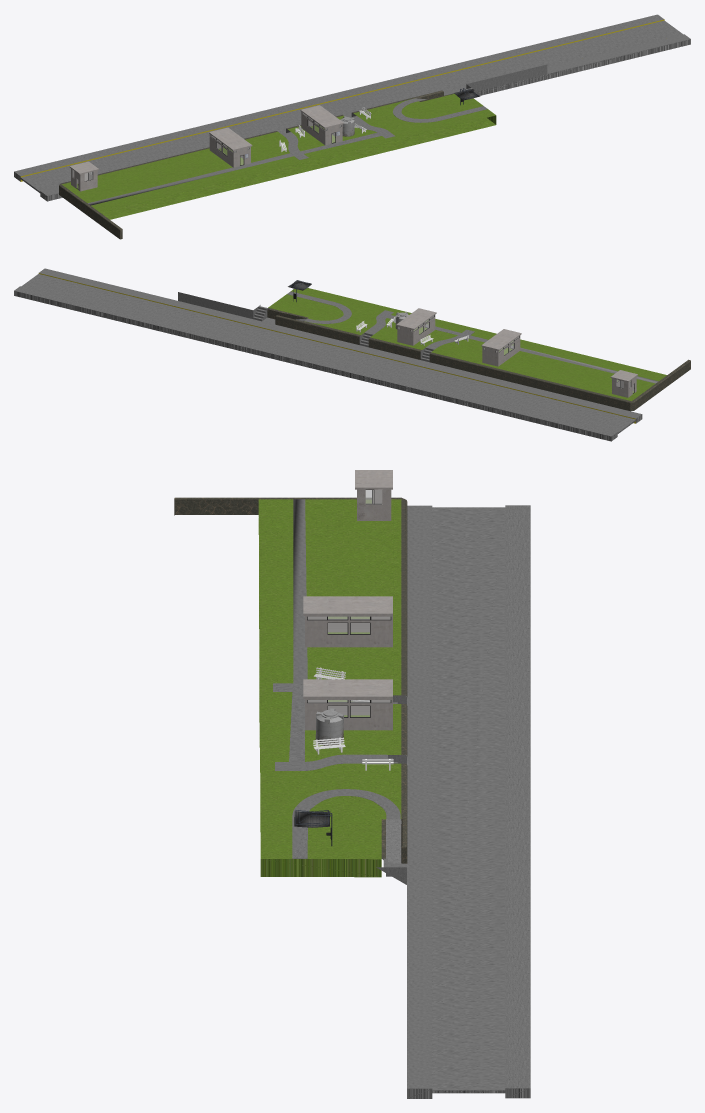
File: salonesop.glb
3 views of the same model, one above another, from view 1: azimuth 30°, elevation 25°; view 2: azimuth 150°, elevation 25°; view 3: azimuth 270°, elevation 25° (orthographic). The views are drawn at different scales.
Visible parts, largest first — view 1: Calle, Cesped_PB, Caseta, Paredes_PB.003; view 2: Calle, Cesped_PB, Paredes_PB.003, Caseta; view 3: Calle, Cesped_PB, Caseta, Paredes_PB.003, Ventanas.
Part boxes in pixels (bbox=[...]): Calle: bbox=[14, 14, 690, 205]; Cesped_PB: bbox=[62, 94, 496, 219]; Caseta: bbox=[69, 105, 343, 191]; Paredes_PB.003: bbox=[59, 90, 454, 239]; Calle: bbox=[14, 268, 658, 441]; Cesped_PB: bbox=[268, 288, 666, 401]; Paredes_PB.003: bbox=[267, 308, 690, 411]; Caseta: bbox=[396, 308, 637, 397]; Calle: bbox=[273, 499, 530, 1098]; Cesped_PB: bbox=[258, 499, 401, 877]; Caseta: bbox=[303, 470, 392, 730]; Paredes_PB.003: bbox=[174, 497, 407, 863]; Ventanas: bbox=[308, 616, 390, 716].
Size of the model in its own units: 1.3 by 0.065 by 0.3359.
Materials: 14 (10 with a texture image).
